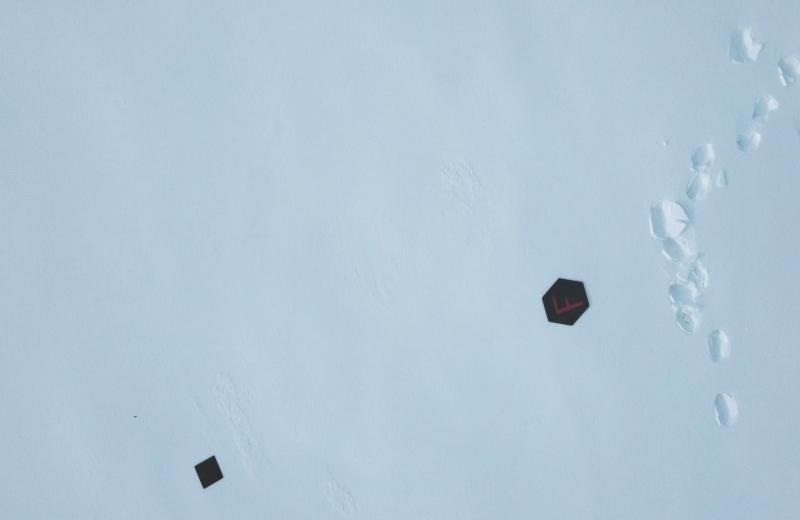Hexagon: (541, 276, 590, 327)
Square: (192, 456, 224, 490)
